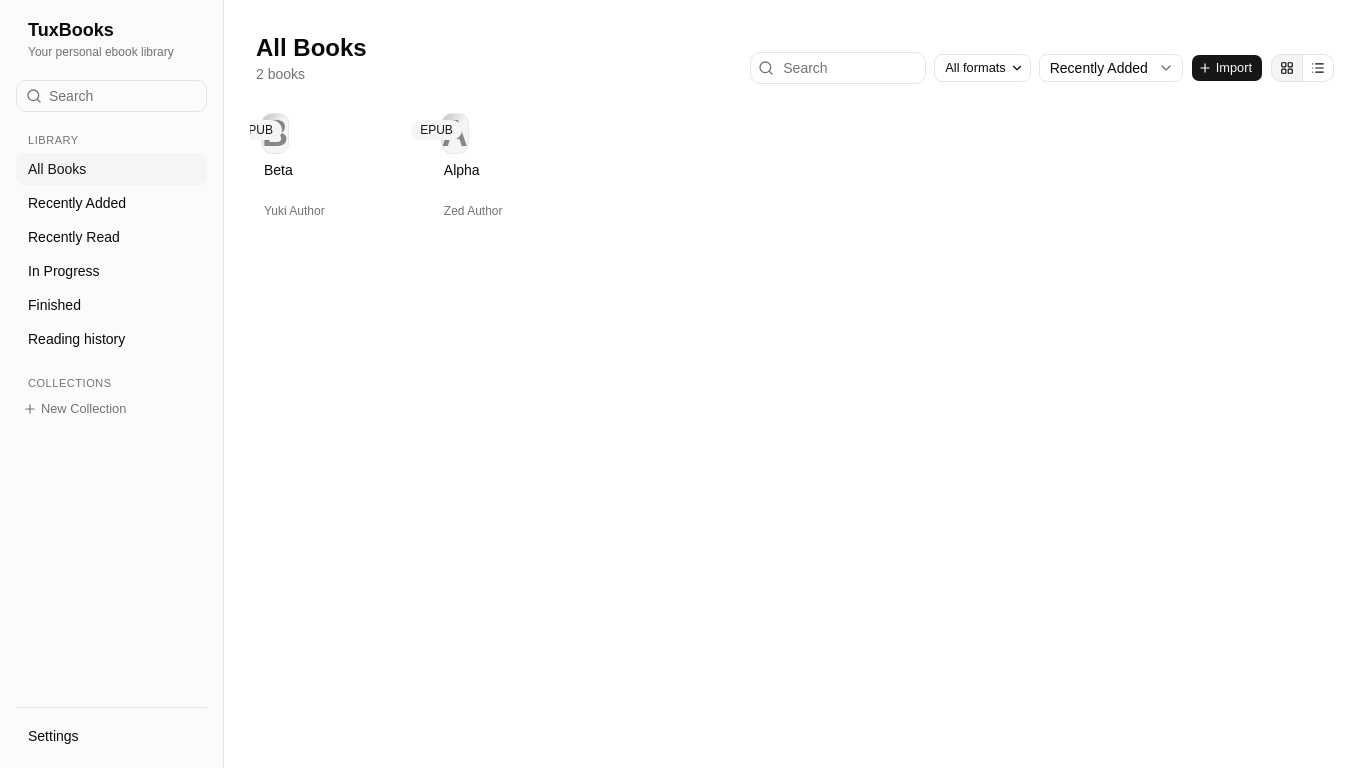
Test case: LibraryView multi-selection › clears the selection when the sidebar section changes
The image size is (1366, 768).
Click the button with test id "book-card": point(294, 168) [256,108,333,229]
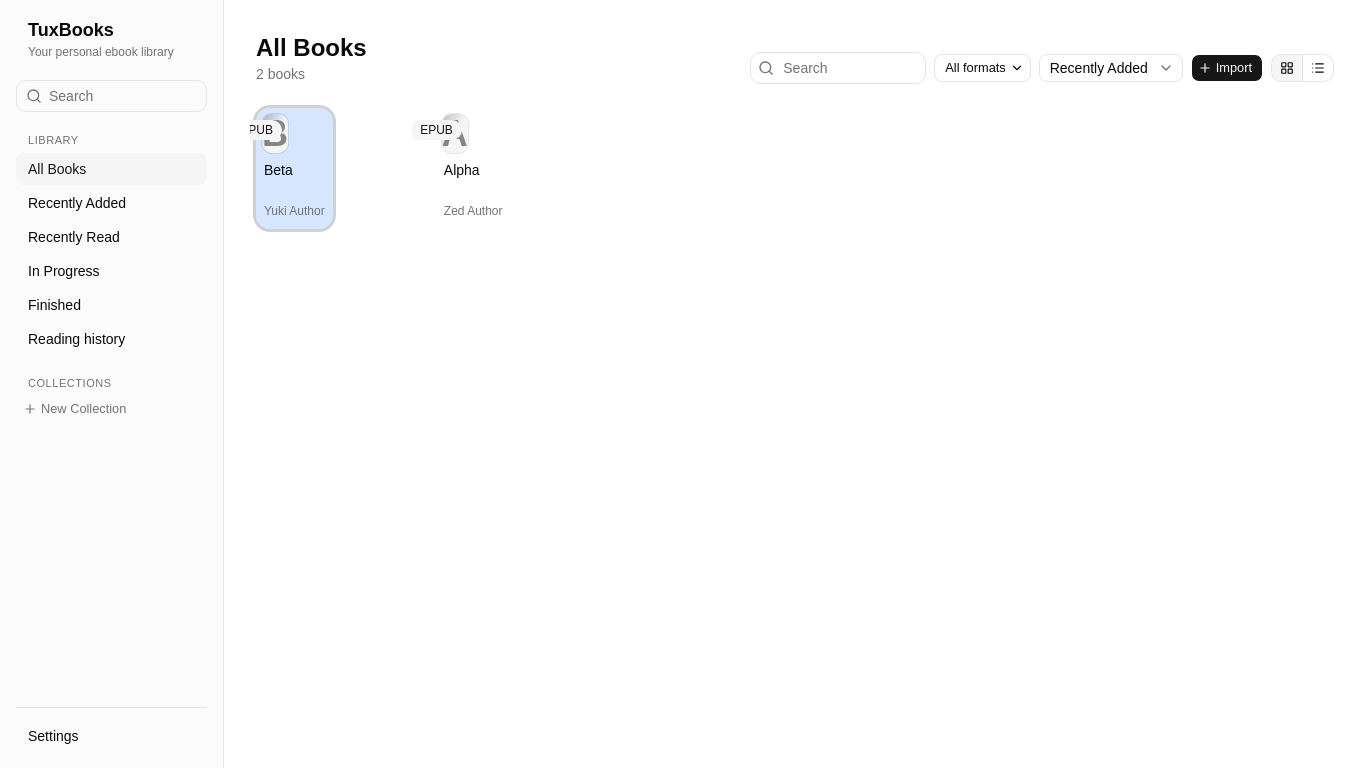
Click the button with test id "book-card": point(473, 168) [436,108,510,229]
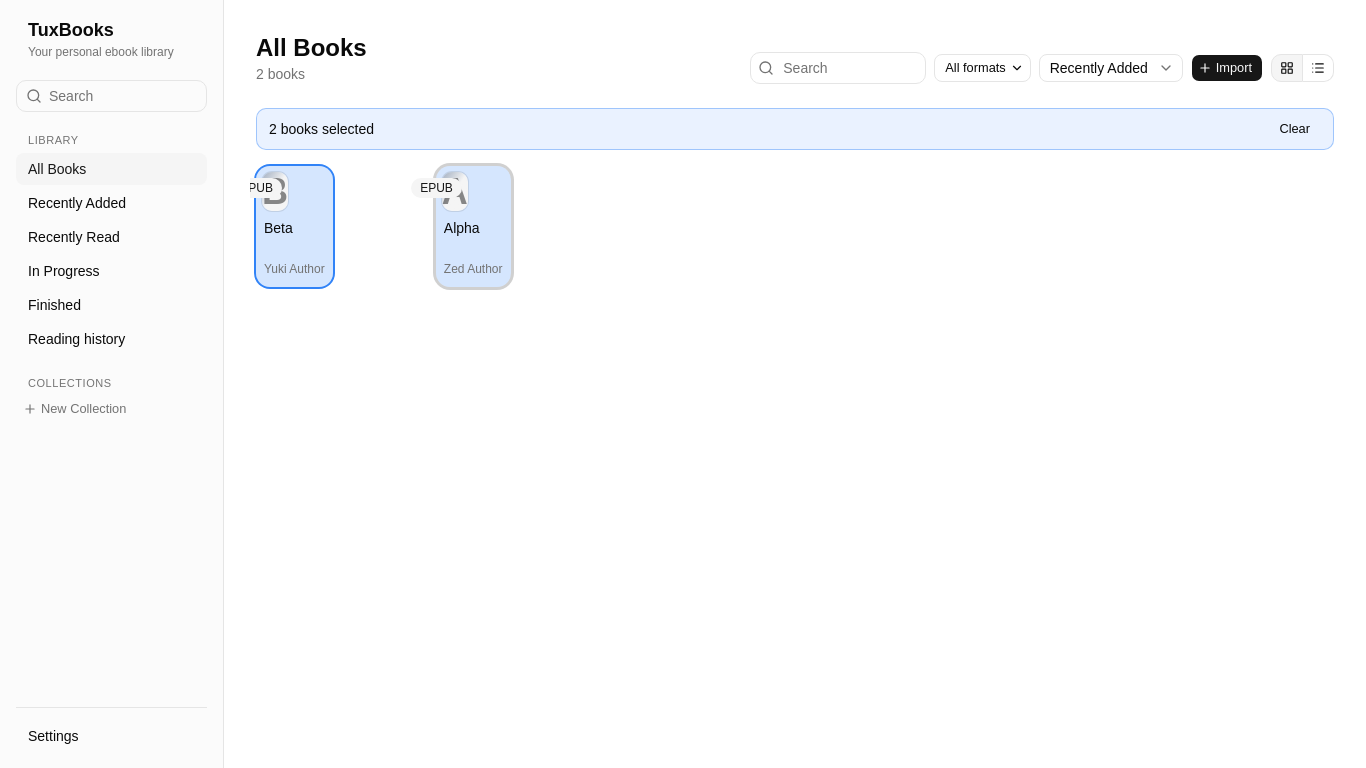
Check: the message "2 books selected Clear" is shown, box [256,108,1334,150]
Click the button "Recently Added": point(112, 202) [16,186,207,218]
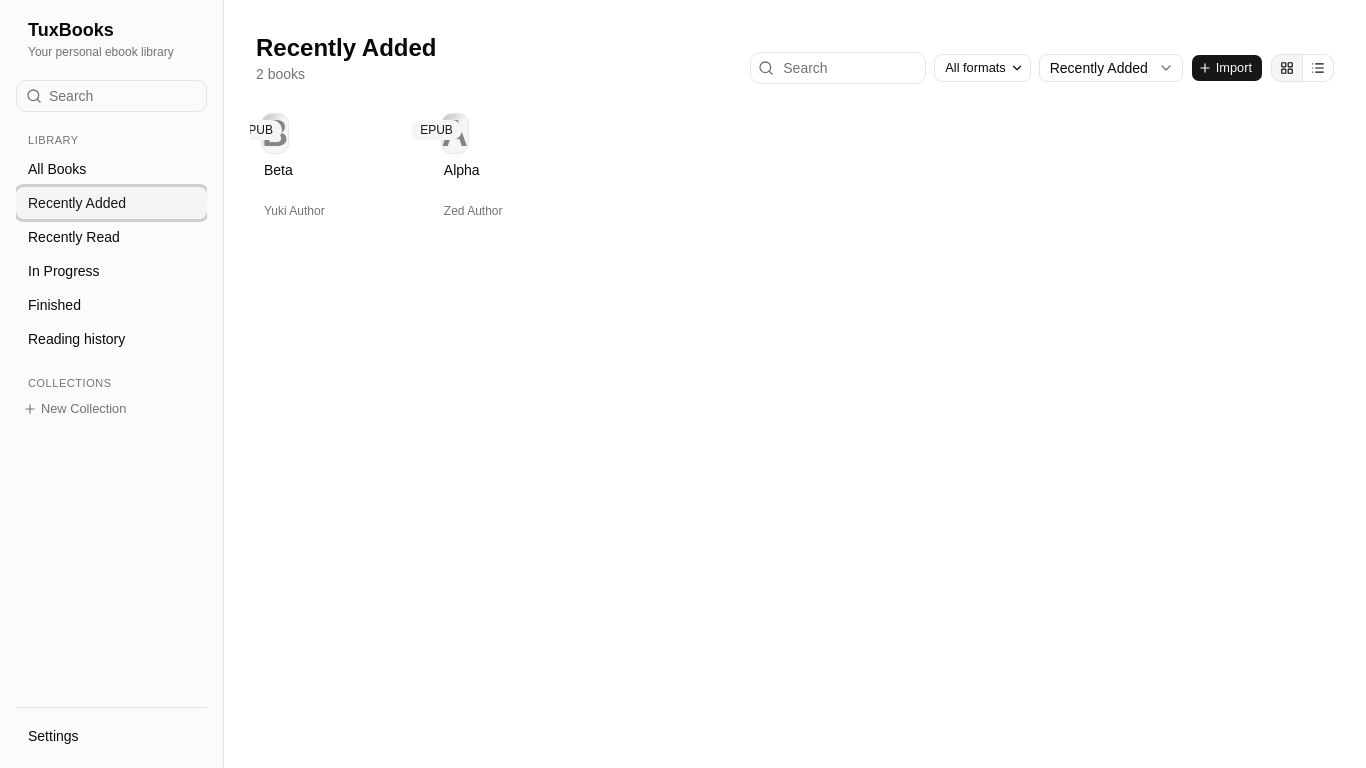
Check: the message with test id "selection-bar" is gone
